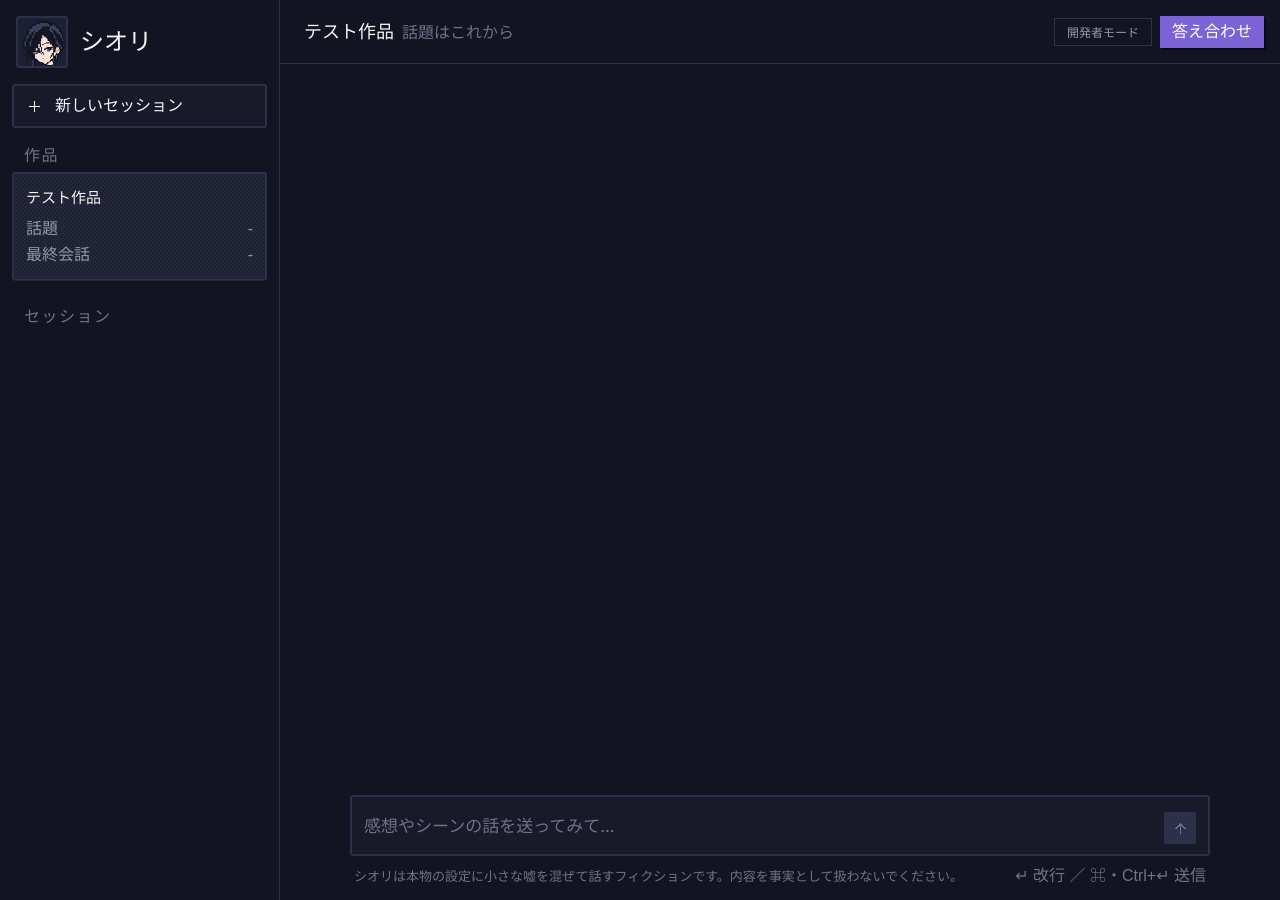
ChatApp: 途中で切れたストリーム › message-start の後に失敗したら、その吹き出しに定型文を入れて閉じる（入力中のまま残さない）
In the text box with placeholder "感想やシーンの話を送ってみて...": (760, 826) [364,805,1156,846], type "hi"
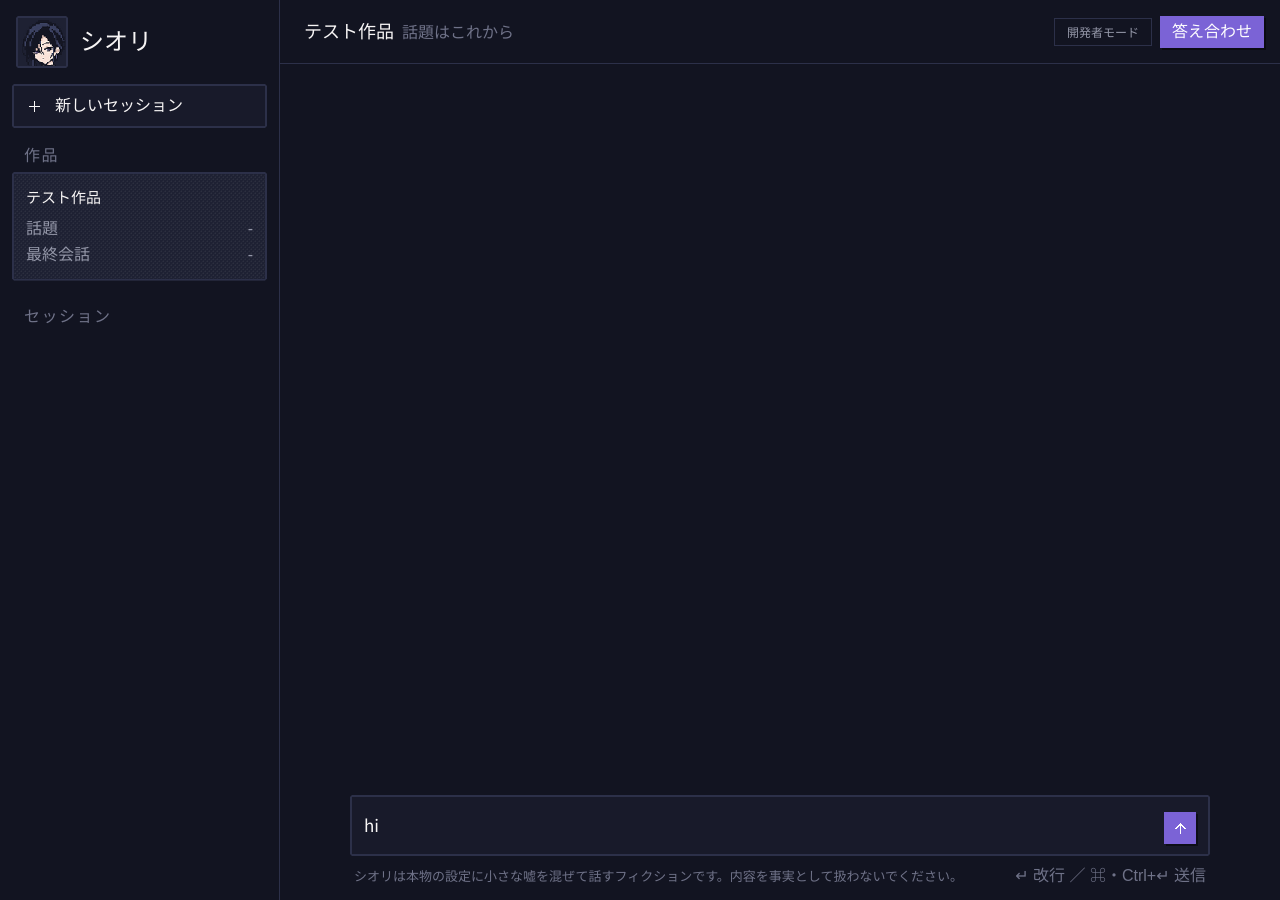
Click the button named "送信": (1180, 828) [1164,812,1196,844]
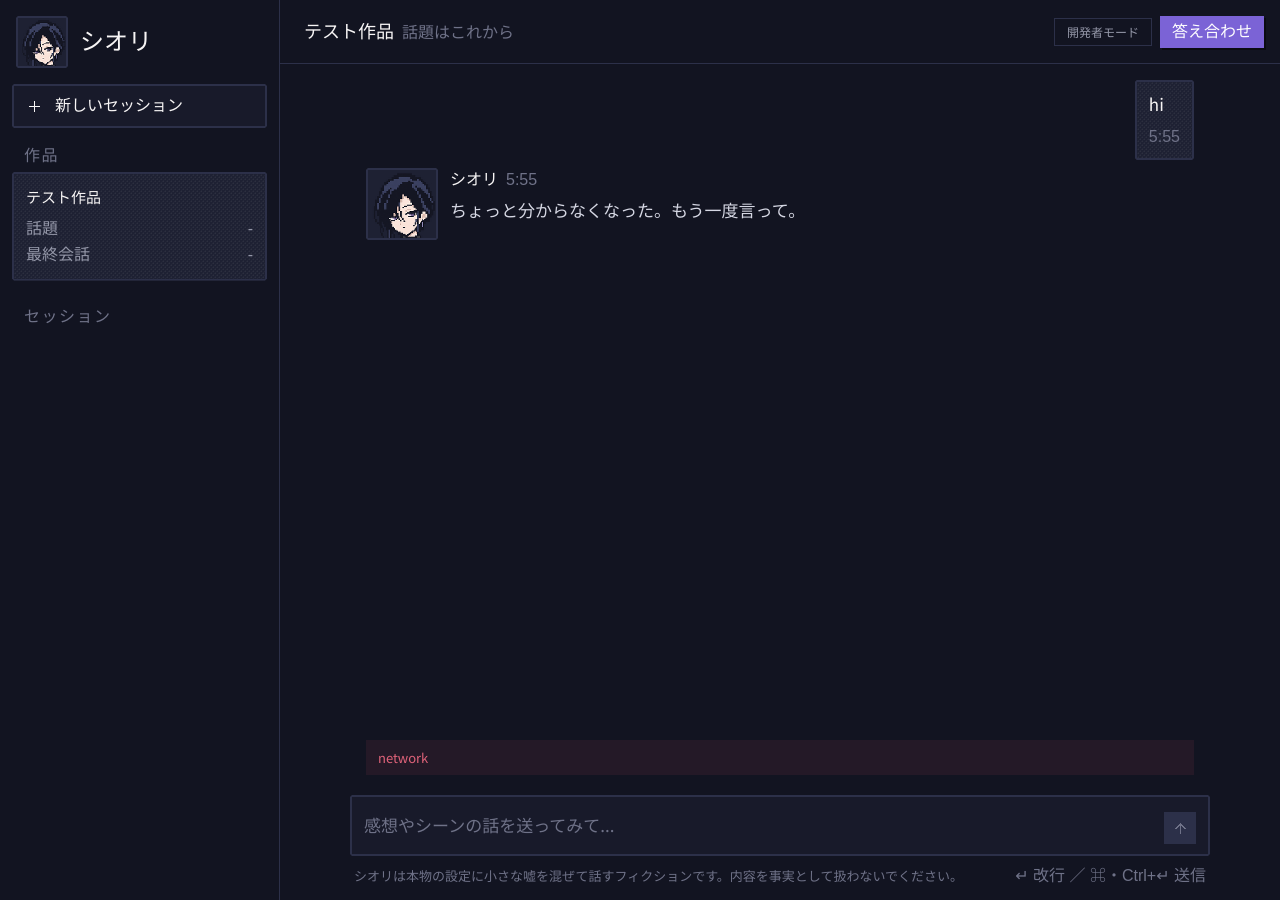
Expected: the text "network" is shown, [366,740,1194,775]
Expected: the text "ちょっと分からなくなった。もう一度言って。" is shown, [450,197,805,222]
